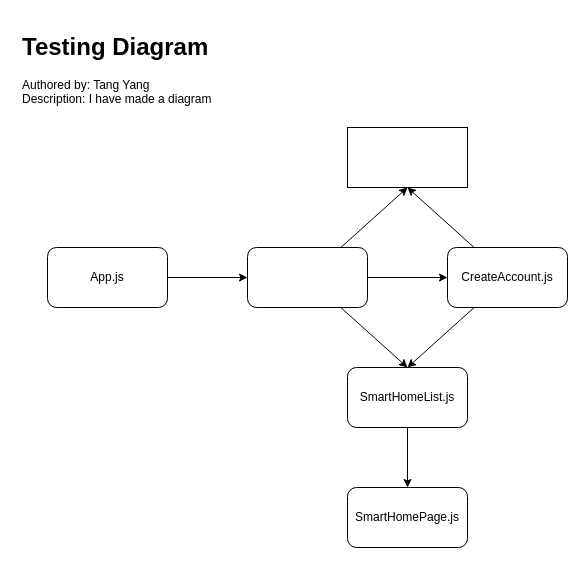
This 585x565 diagram has some shape labels left out. Here are the shapes that lost their labels. From the top down, the centre of each, then its label:
At (x=407, y=157): "urls.py".
At (x=307, y=277): "Login.js".
